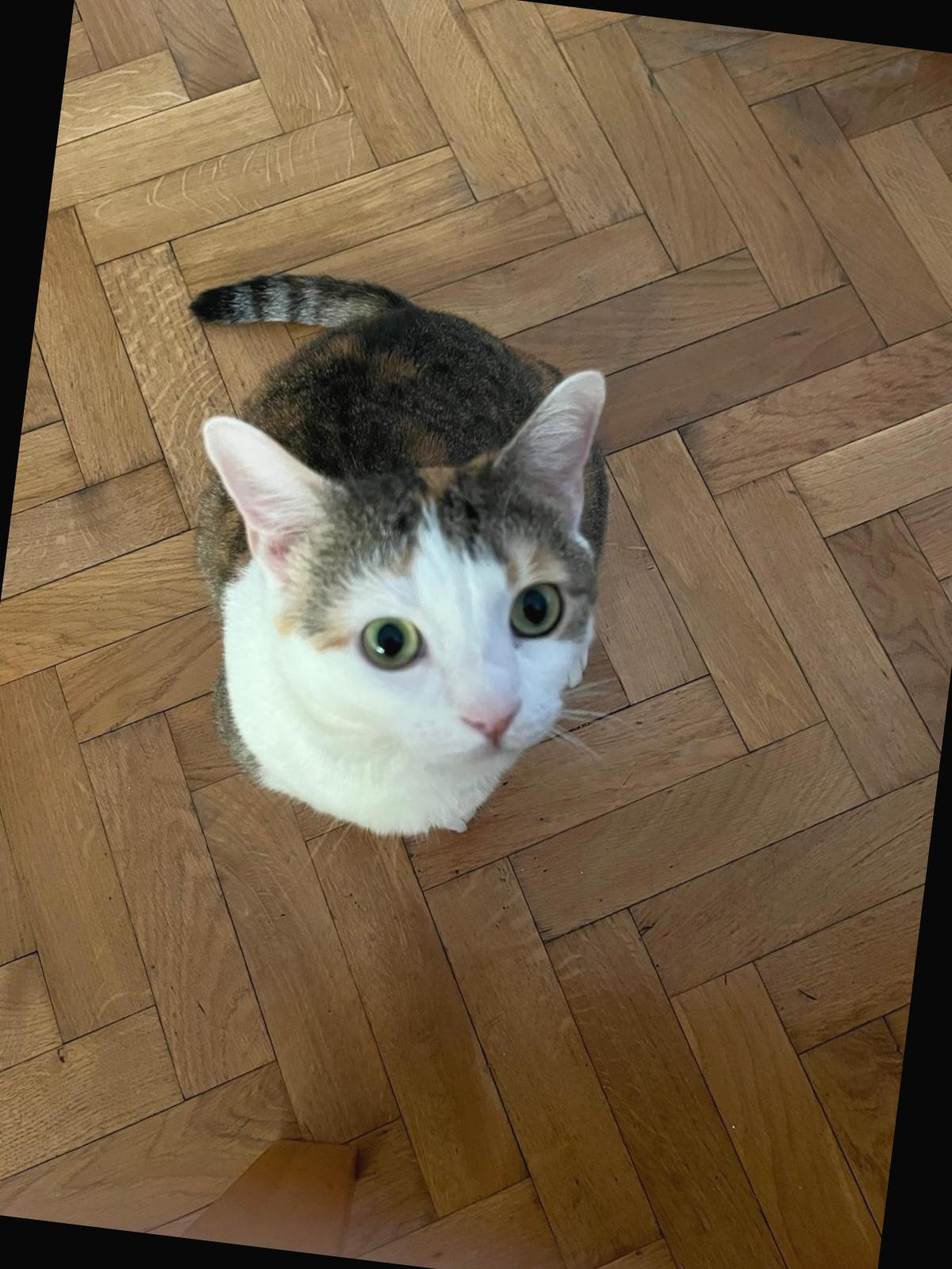macka: (125, 253, 637, 857)
